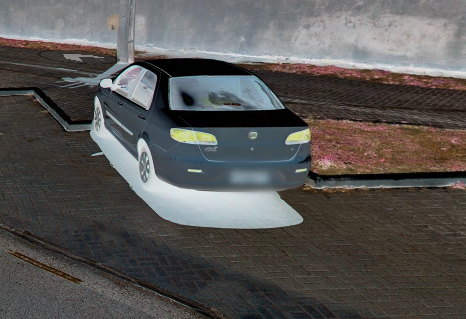car: (84, 44, 318, 215)
